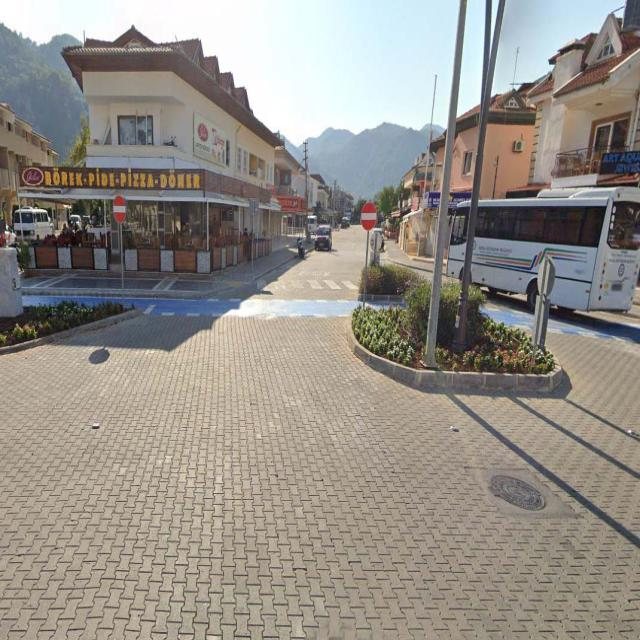girisyok: (361, 202, 376, 229), (113, 195, 126, 222)
